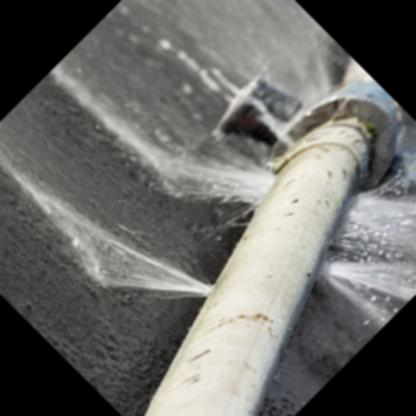burst: (324, 187, 384, 309), (229, 139, 297, 212), (179, 277, 247, 321)
